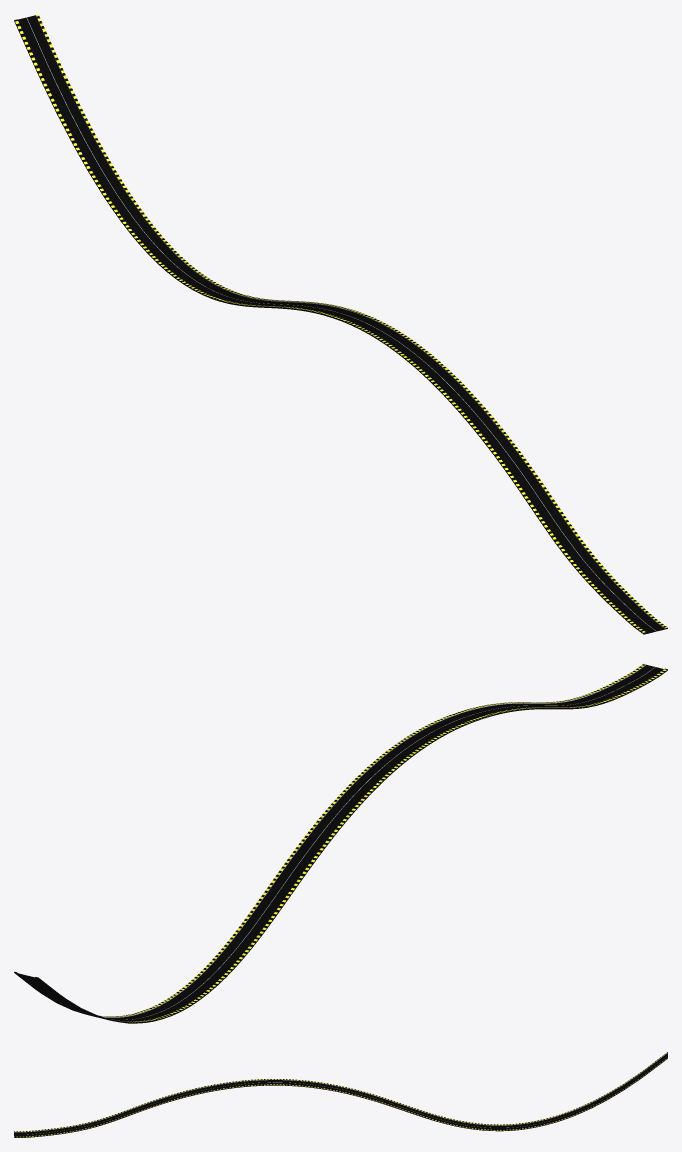
The model's file is Racing Ramp.fbx.
3 views of the same model, one above another, from view 1: azimuth 30°, elevation 25°; view 2: azimuth 150°, elevation 25°; view 3: azimuth 270°, elevation 25° (orthographic). The views are drawn at different scales.
Visible parts, largest first — view 1: Cube.001; view 2: Cube.001; view 3: Cube.001.
Part boxes in pixels (x1,y1,x2,y2): Cube.001: (14,14,667,634); Cube.001: (14,663,667,1023); Cube.001: (14,1052,667,1137).
Size of the model in its own units: 69143 by 421062 by 3126531.
3 materials, 1 textured.
